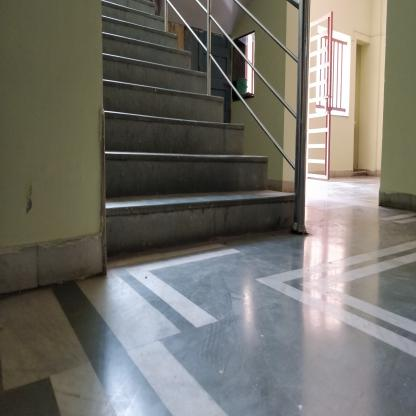stairs: (107, 44, 189, 267)
